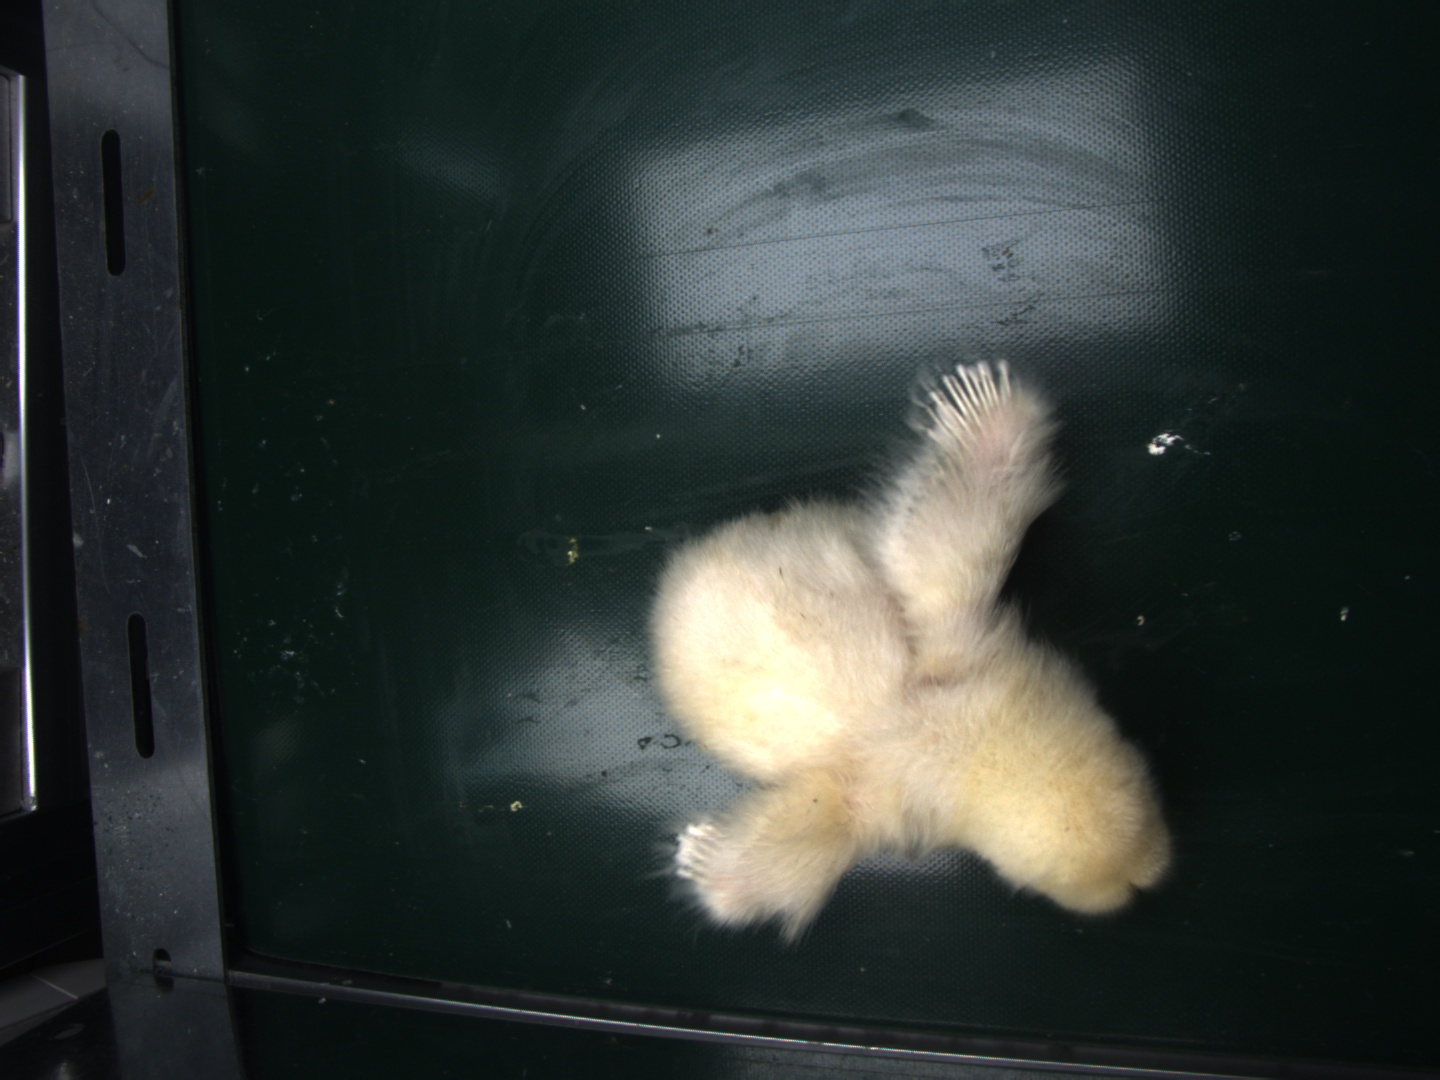male: (915, 354, 1013, 441)
